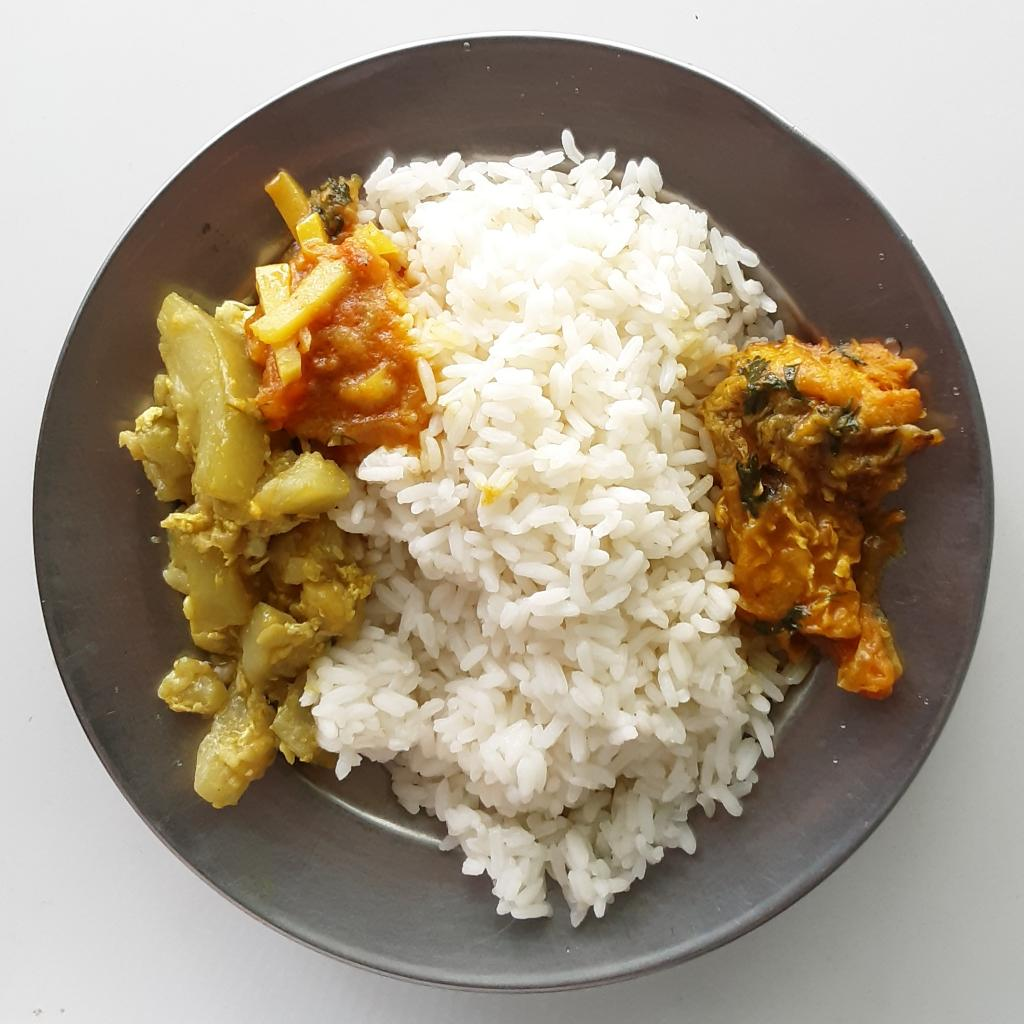fish: (702, 337, 932, 703)
lau: (112, 286, 380, 822)
potato: (248, 166, 418, 458)
rice: (295, 117, 809, 928)
